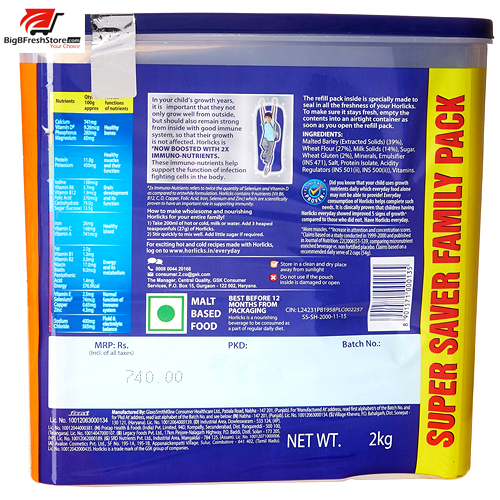VEG: (144, 292, 189, 335)
